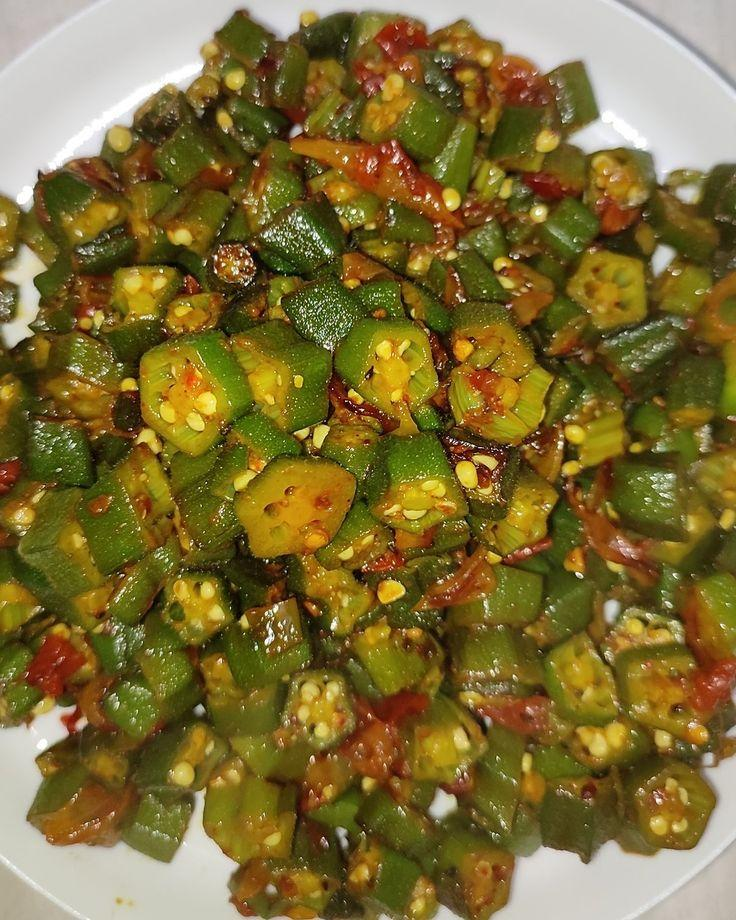bhindi: (3, 146, 736, 848)
